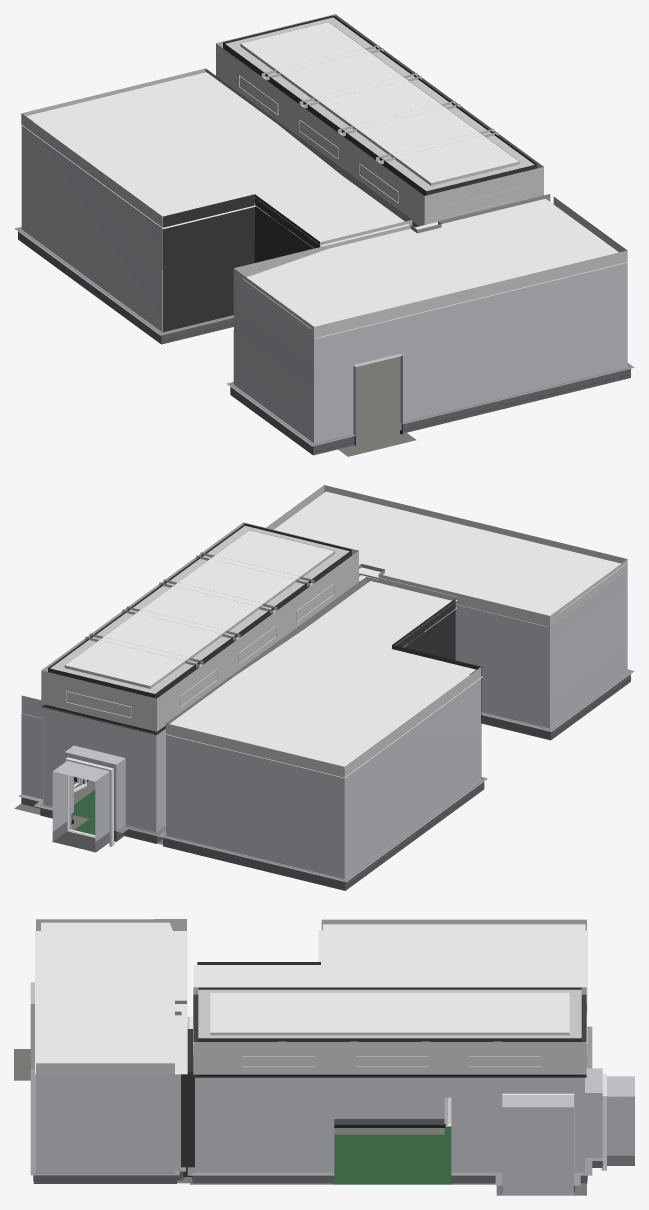
File: SM_H_Building_Tide_Examinationroom_07_ATLAS.fbx
The picture shows the model from 3 angles, top to bottom: view 1: azimuth 30°, elevation 25°; view 2: azimuth 150°, elevation 25°; view 3: azimuth 270°, elevation 25°; orthographic projection. The views are drawn at different scales.
Parts seen in each view (by area): view 1: SM_H_Building_Tide_Examinationroom_07_ATLAS; view 2: SM_H_Building_Tide_Examinationroom_07_ATLAS; view 3: SM_H_Building_Tide_Examinationroom_07_ATLAS.
Part boxes in pixels (x1,y1,x2,y2): SM_H_Building_Tide_Examinationroom_07_ATLAS: [14, 14, 634, 456]; SM_H_Building_Tide_Examinationroom_07_ATLAS: [14, 485, 634, 890]; SM_H_Building_Tide_Examinationroom_07_ATLAS: [14, 919, 634, 1195].
Size of the model in its own units: 1169 by 1928 by 505.
